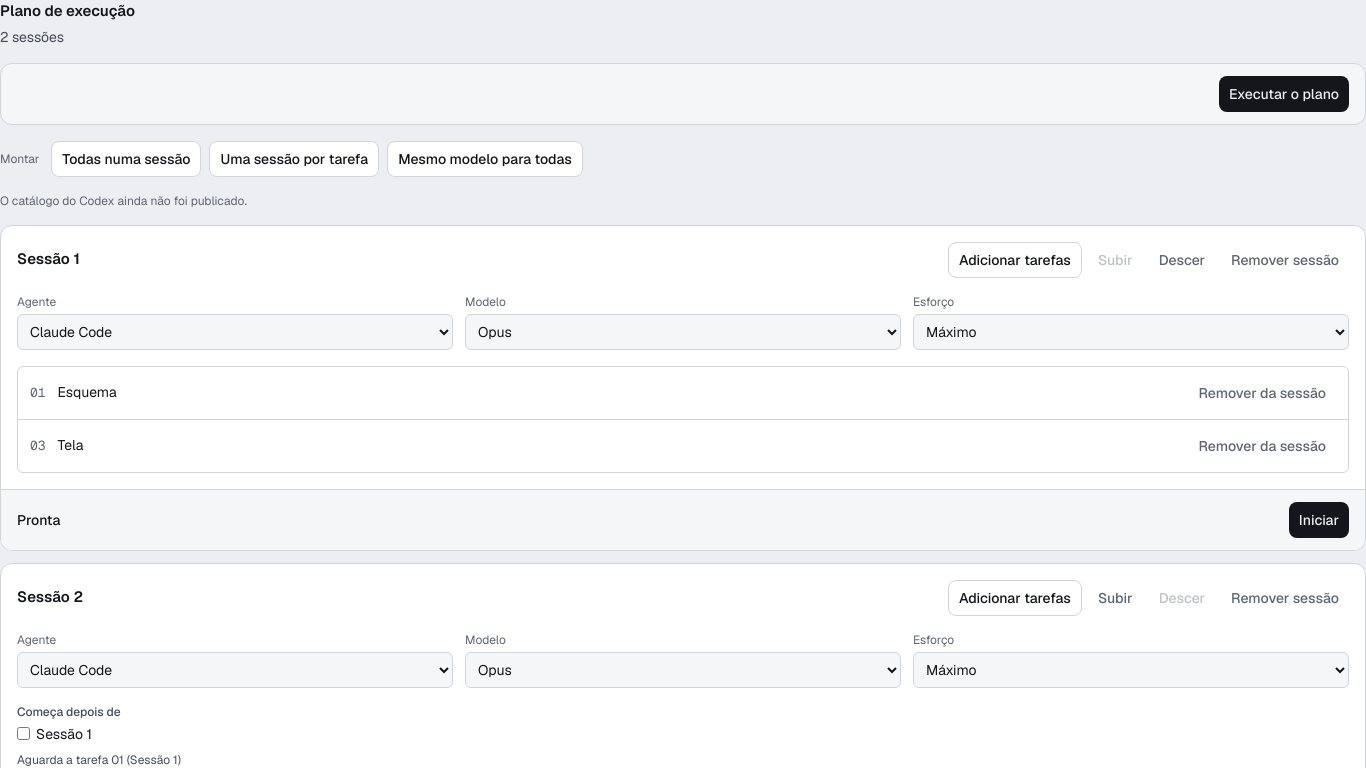
ExecutionPlanEditor › V-40o shows the conflict message of the server and reads the plan again
This screenshot has width=1366, height=768.
Click the button "Remover da sessão" in the row of "03".
click(1262, 446)  # box x1=1188 y1=428 x2=1336 y2=464
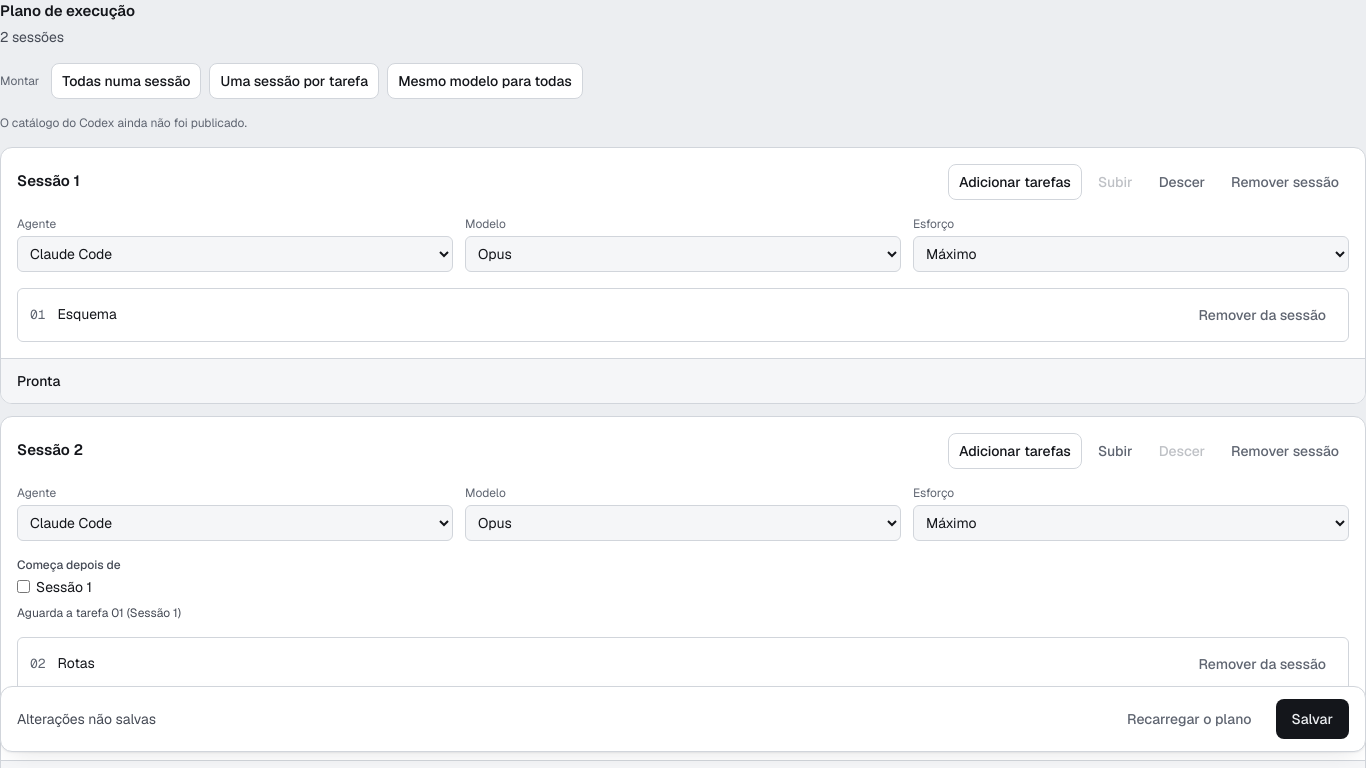
Click the button "Salvar".
click(1312, 719)  # box x1=1276 y1=699 x2=1349 y2=739
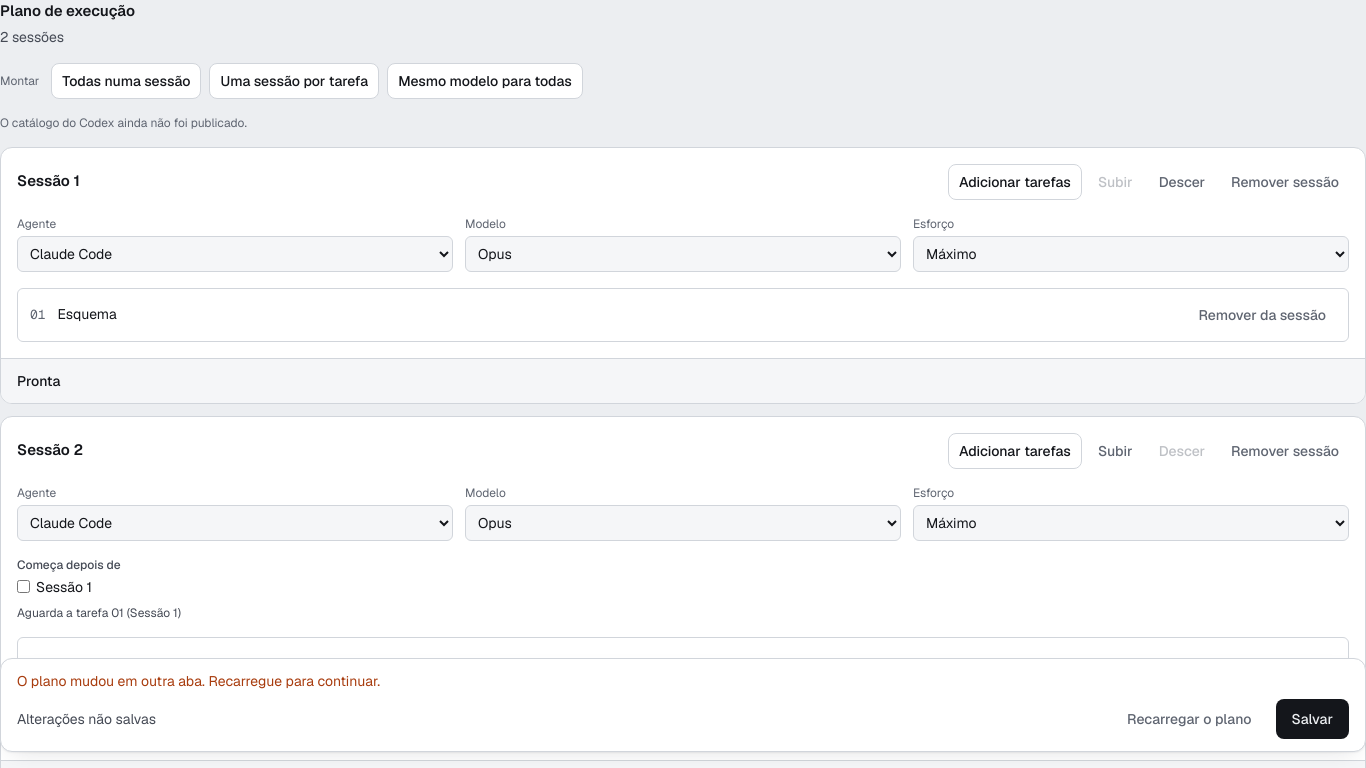
Now the message reads "O plano mudou em outra aba. Recarregue para continuar.", box x1=17 y1=672 x2=380 y2=690
